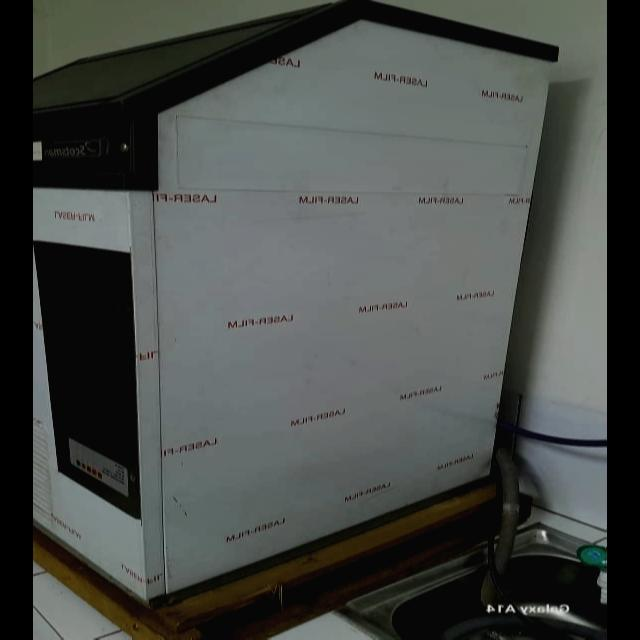Ice Maker: (43, 0, 576, 574)
